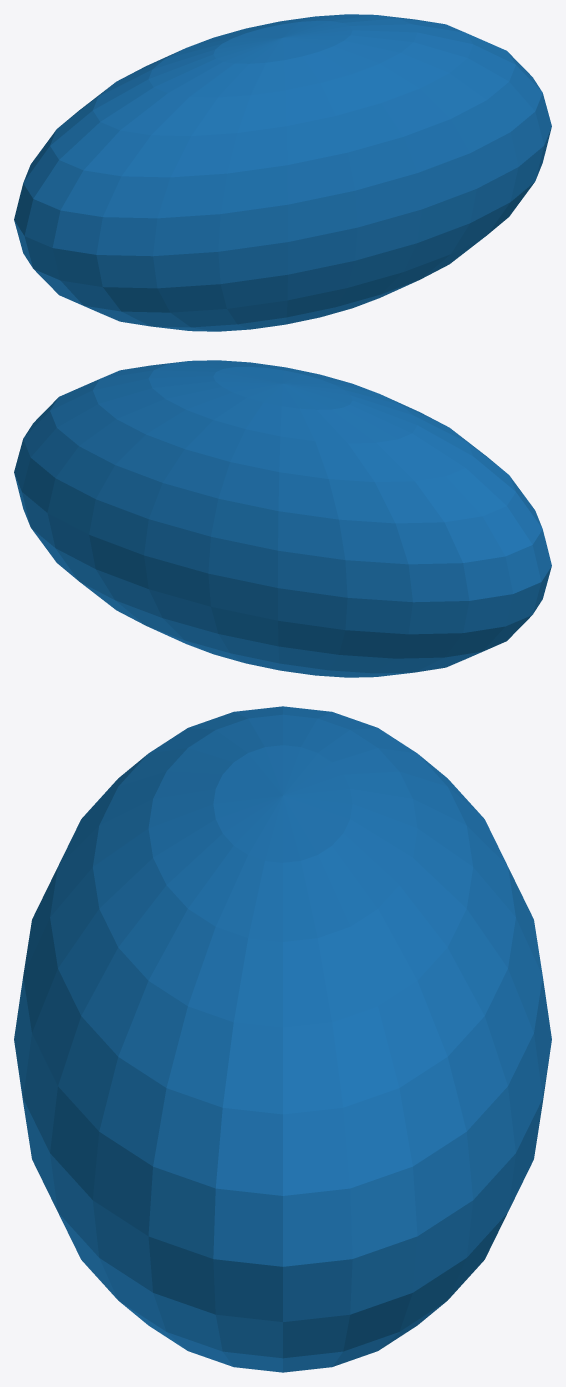
File: textured_source.glb
3 renders of one model, top to bottom at view 1: azimuth 30°, elevation 25°; view 2: azimuth 150°, elevation 25°; view 3: azimuth 270°, elevation 25°, orthographic. The views are drawn at different scales.
Parts seen in each view (by area): view 1: PBR_TestHull; view 2: PBR_TestHull; view 3: PBR_TestHull.
Part boxes in pixels (left/top/right/bottom): PBR_TestHull: left=14, top=14, right=551, bottom=331; PBR_TestHull: left=14, top=360, right=551, bottom=677; PBR_TestHull: left=14, top=706, right=551, bottom=1372.
Bounding box in the file's own units: 4 × 2 × 2.
1 material, 1 textured.
